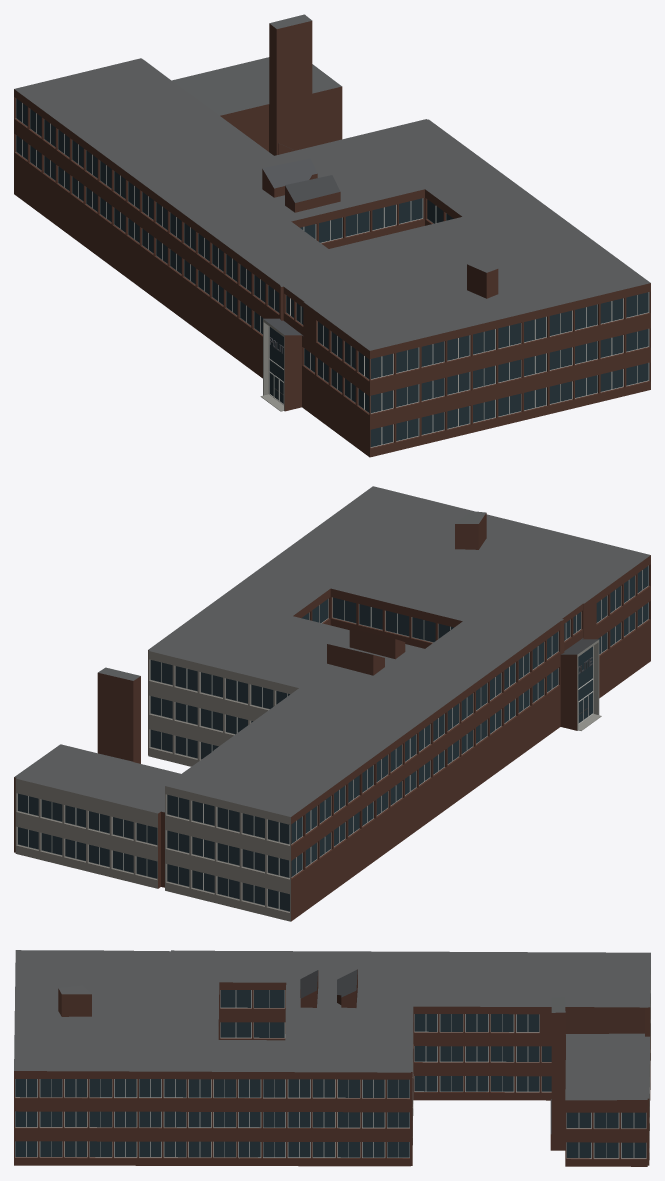
Rendered from recipe-large-politie-van-leijenberghlaan.glb.
3 renders of one model, top to bottom at view 1: azimuth 30°, elevation 25°; view 2: azimuth 150°, elevation 25°; view 3: azimuth 270°, elevation 25°, orthographic. The views are drawn at different scales.
Visible parts, largest first — view 1: politie-van-leijenberghlaan; view 2: politie-van-leijenberghlaan; view 3: politie-van-leijenberghlaan.
Part boxes in pixels (x1=…): politie-van-leijenberghlaan: x1=14, y1=14, x2=650, y2=457; politie-van-leijenberghlaan: x1=14, y1=486, x2=650, y2=921; politie-van-leijenberghlaan: x1=14, y1=950, x2=650, y2=1166.
Bounding box in the file's own units: 33.48 × 16.47 × 68.85.
